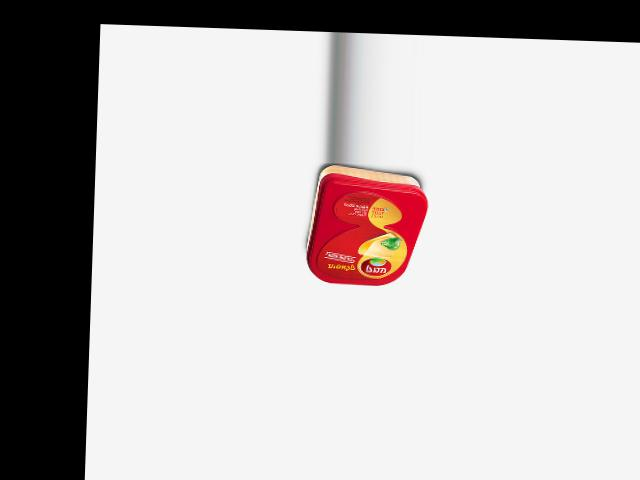cheese: (305, 164, 429, 287)
